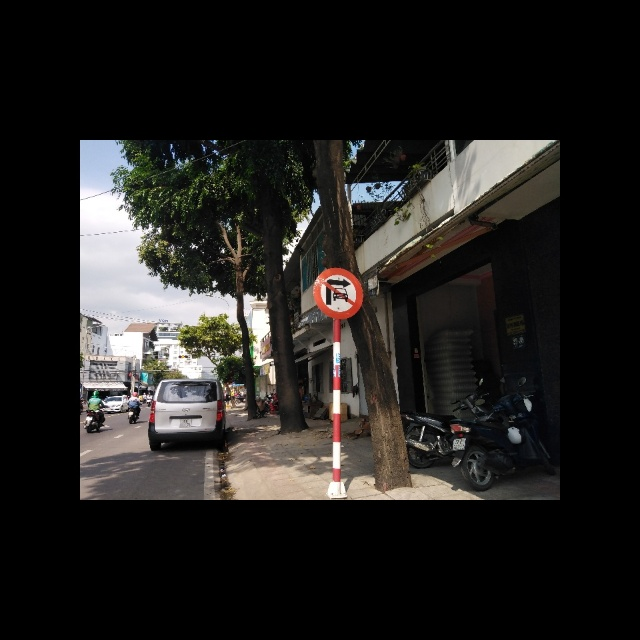Cấm xe ô tô rẽ trái: (312, 267, 363, 320)
